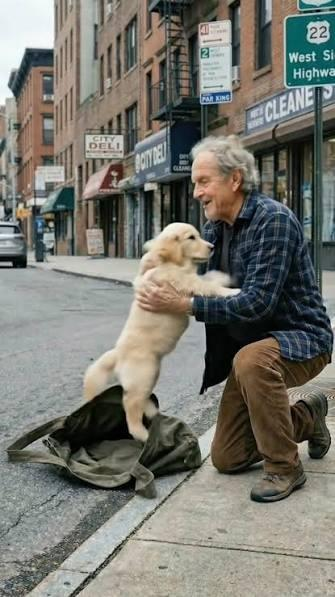non-dog: (134, 128, 335, 507)
puppy-dog: (80, 223, 241, 442)
